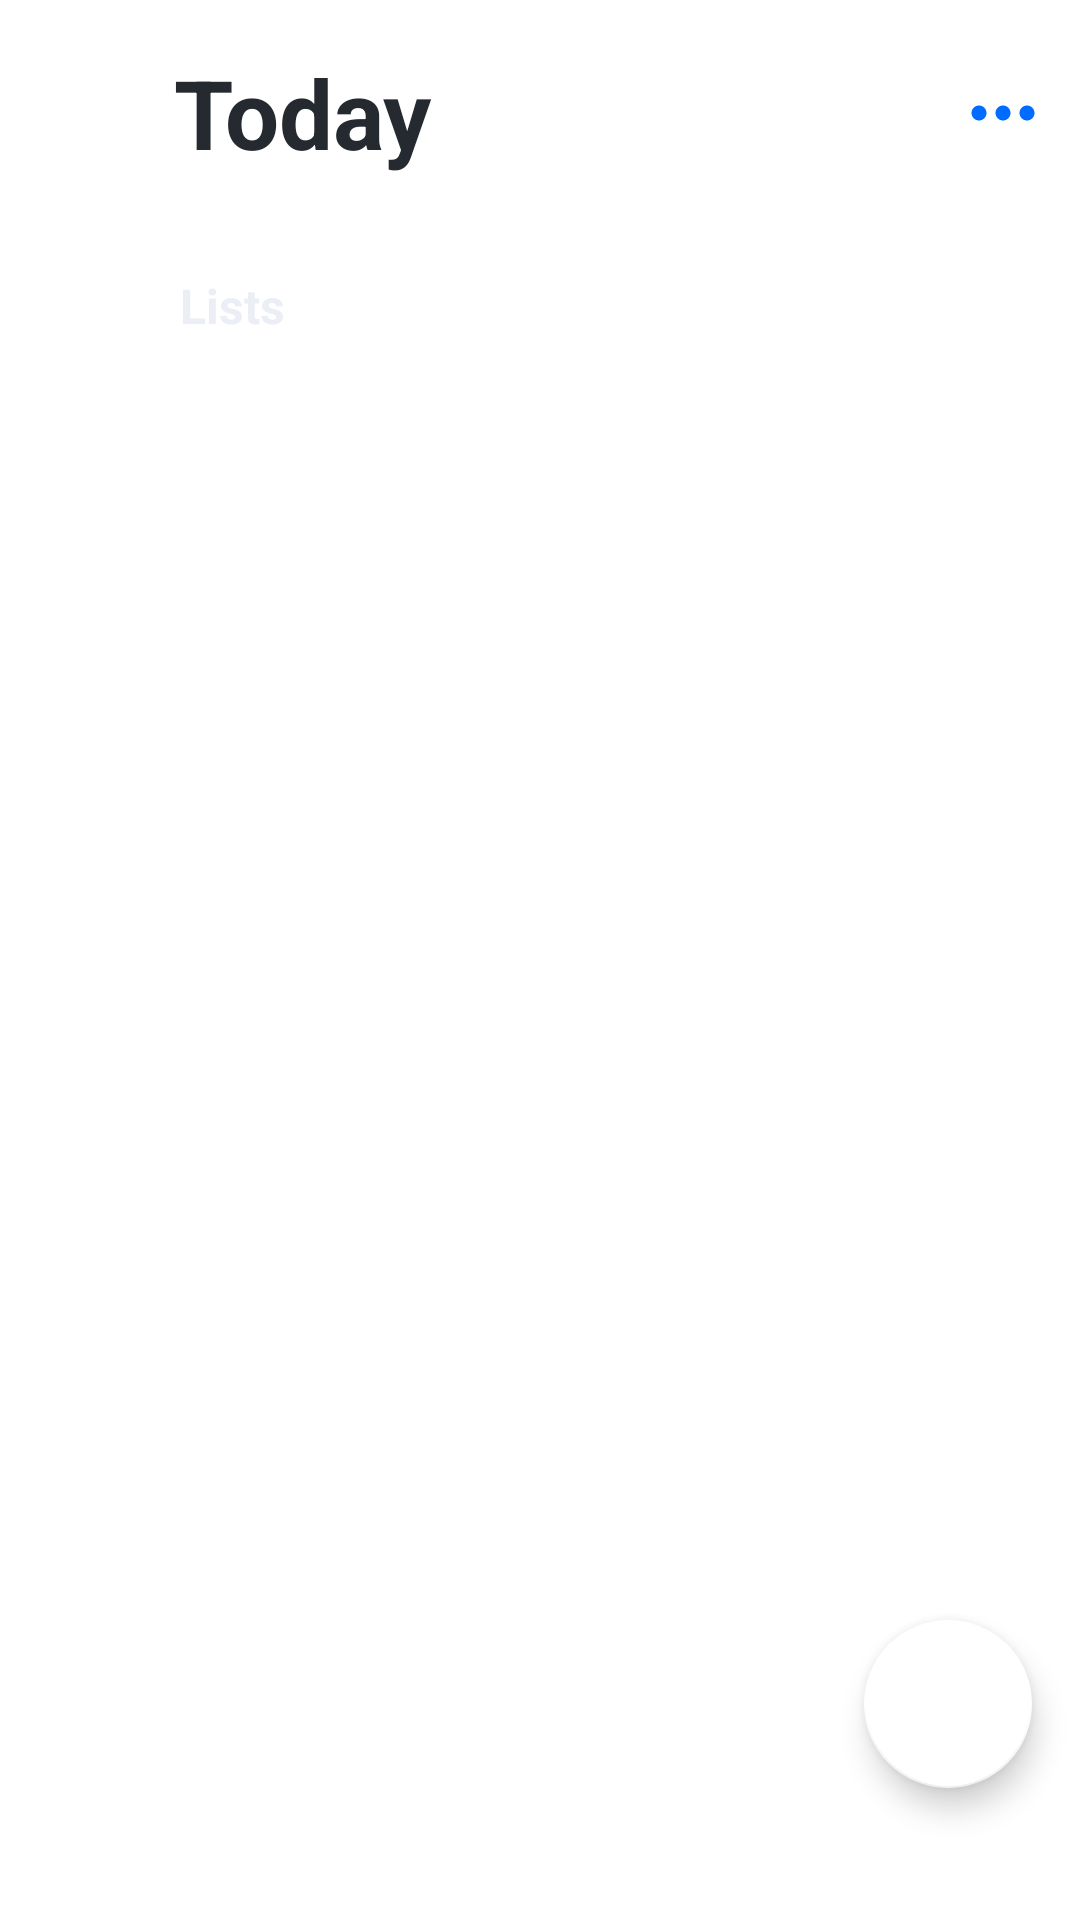

Icon bounding boxes for this 1080px x 1920px phone screenshot, format box=[x1, y1, x2, y2]:
Additional functions: box=[971, 105, 1035, 121]
